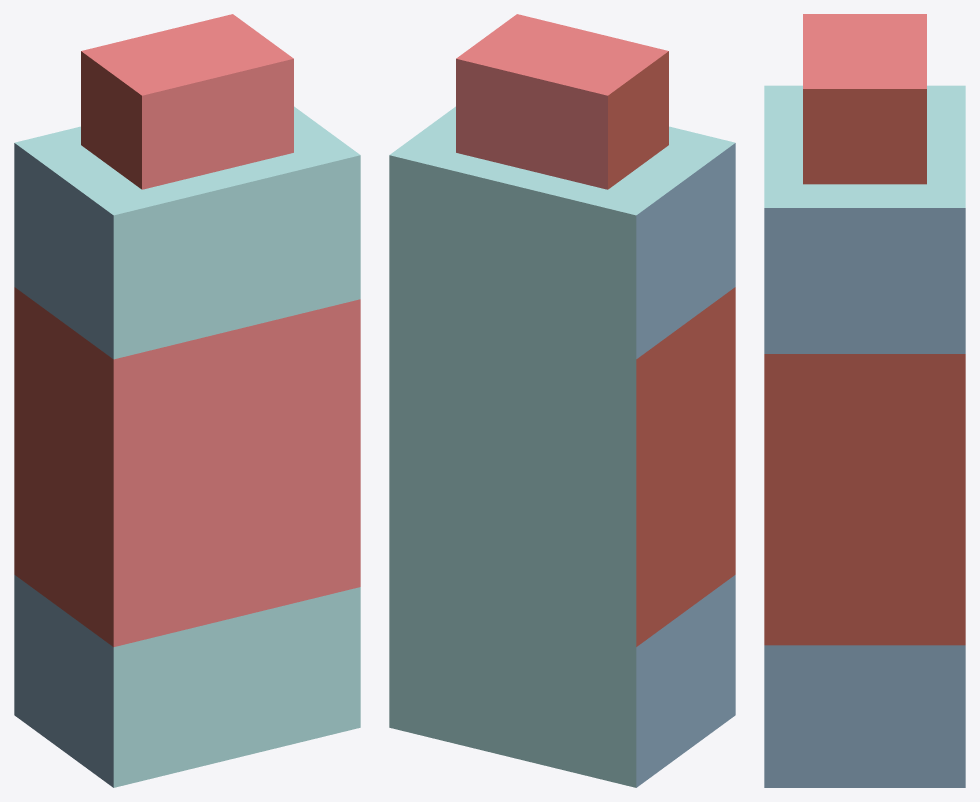
Rendered from Misc Bottle.fbx.
The picture shows the model from 3 angles, left to right: view 1: azimuth 30°, elevation 25°; view 2: azimuth 150°, elevation 25°; view 3: azimuth 270°, elevation 25°; orthographic projection.
Visible parts, largest first — view 1: Misc Bottle; view 2: Misc Bottle; view 3: Misc Bottle.
Part boxes in pixels (x1,y1,x2,y2): Misc Bottle: [14, 14, 360, 787]; Misc Bottle: [389, 14, 735, 787]; Misc Bottle: [764, 14, 965, 787].
Bounding box in the file's own units: 16.84 × 43.43 × 11.73.
